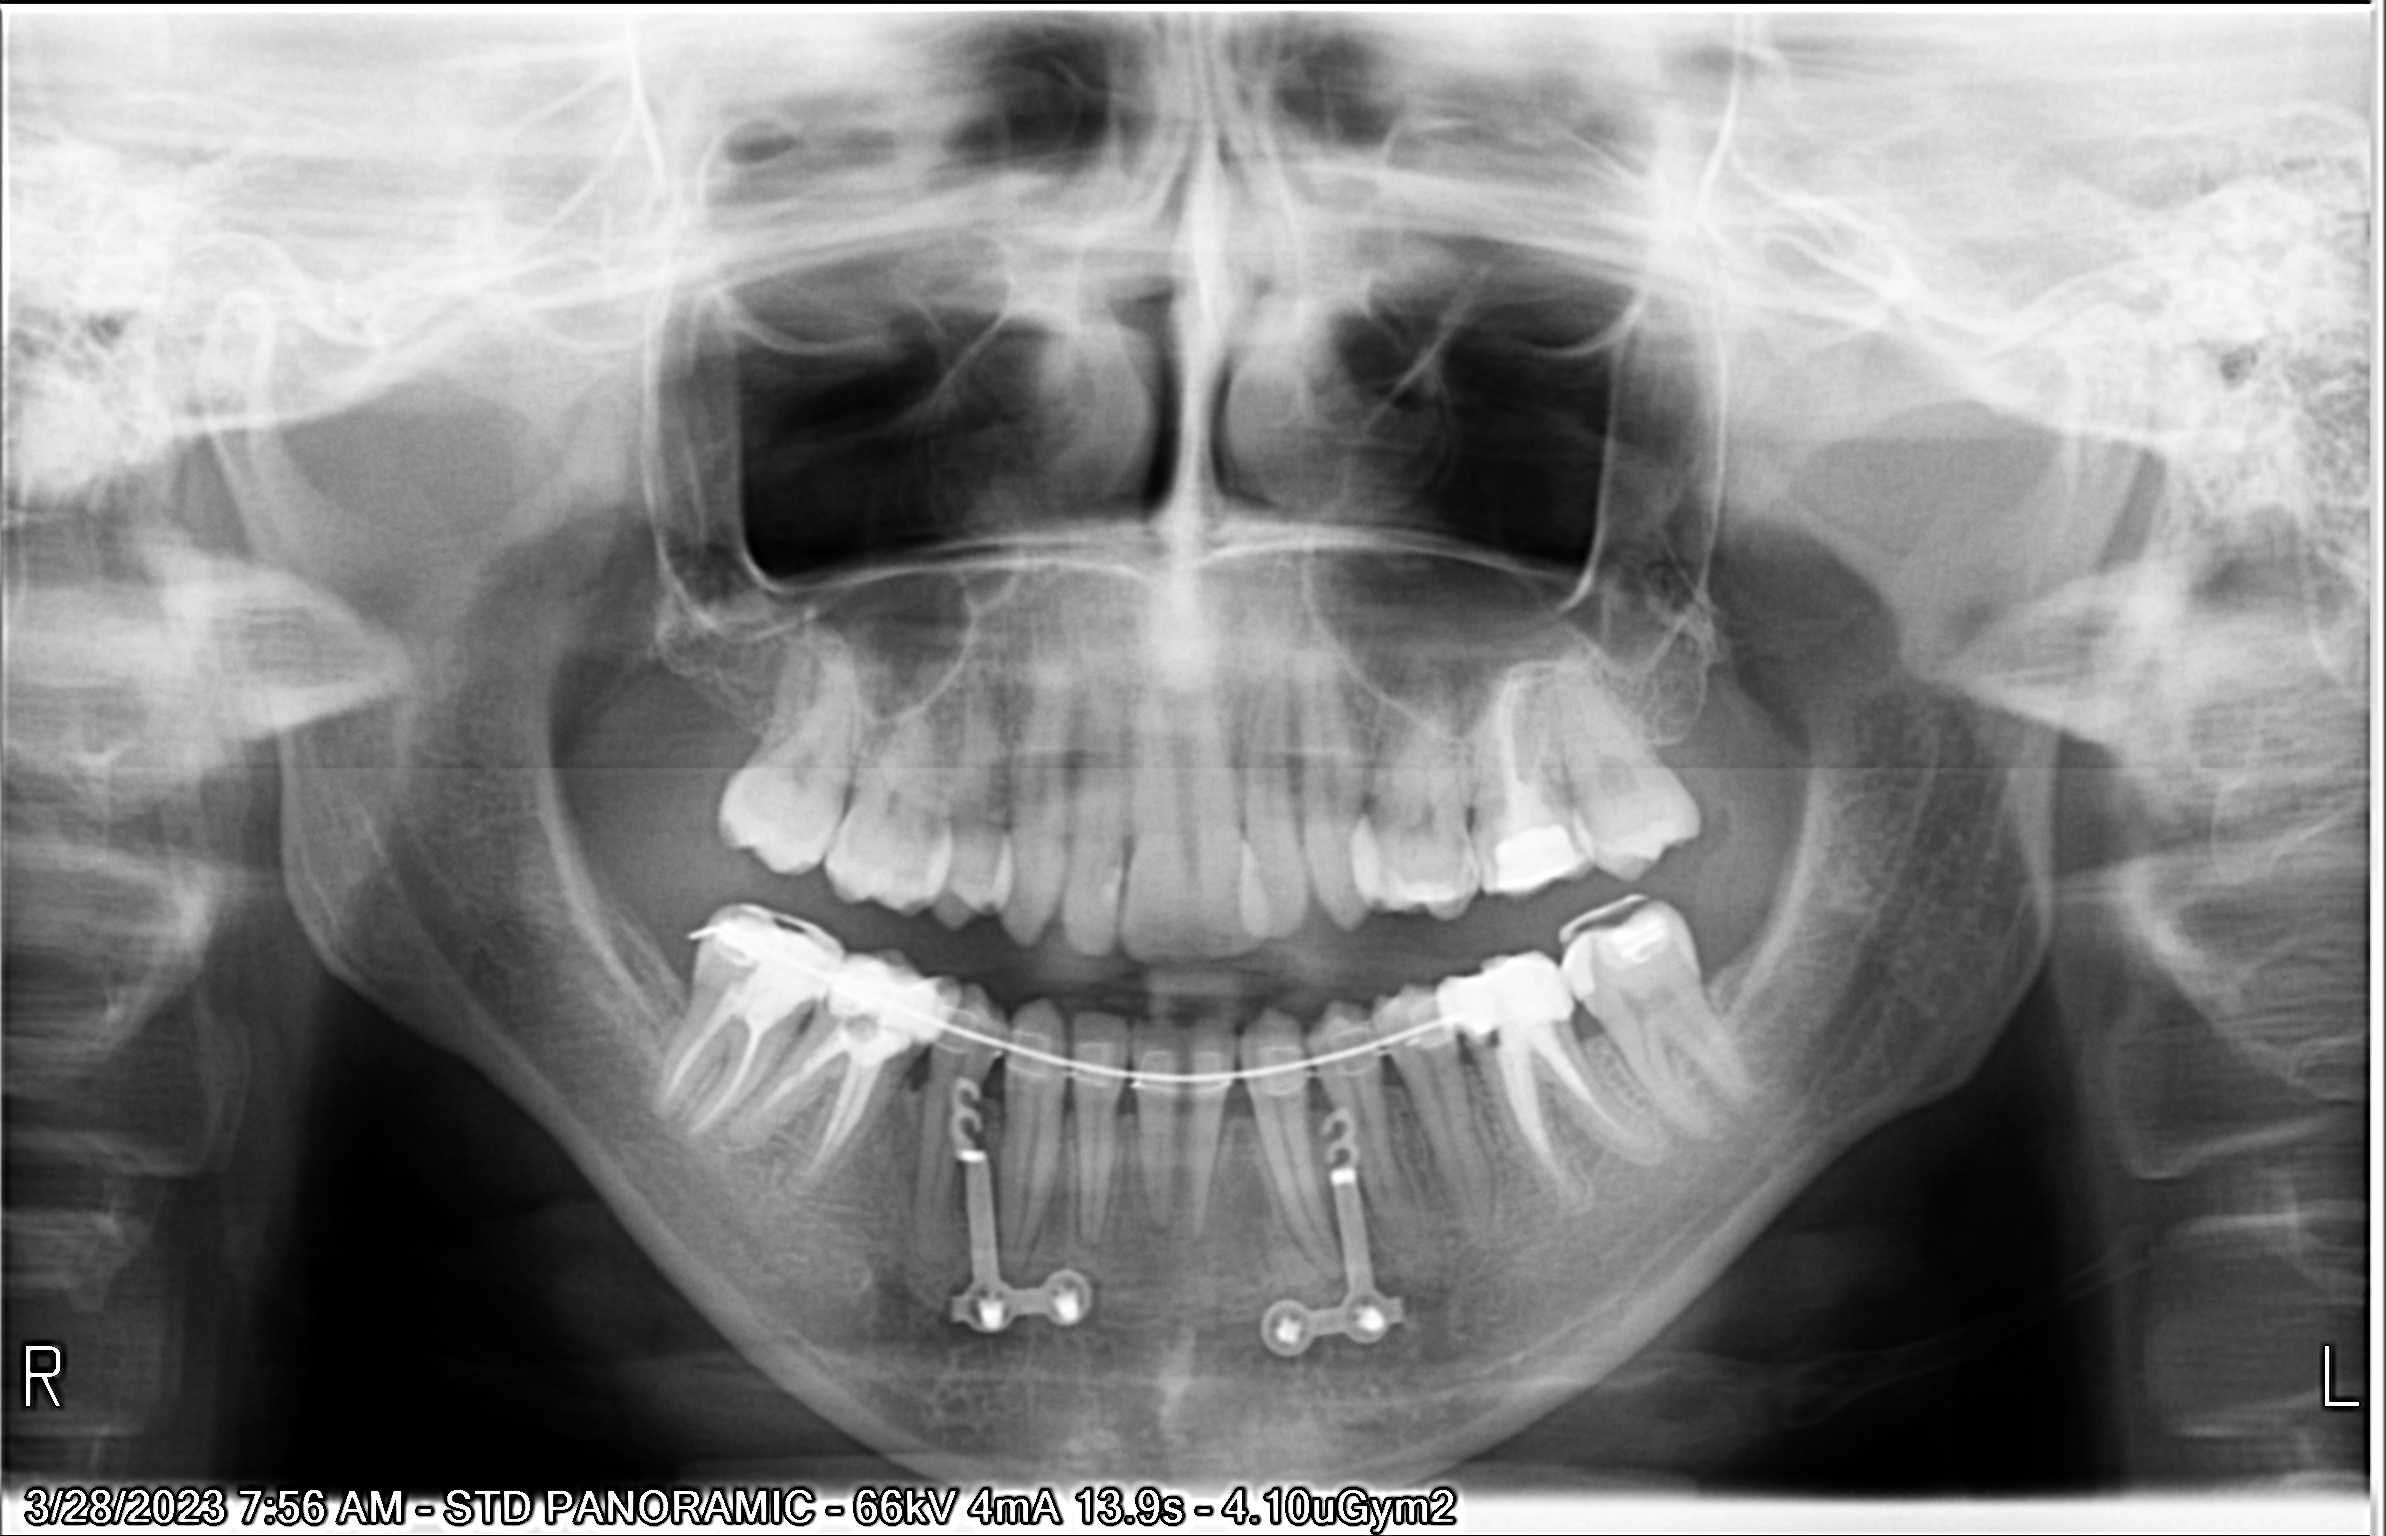END: (1501, 1044, 1657, 1185), (1464, 670, 1562, 819)
OBT: (1565, 915, 1748, 1011), (1487, 798, 1596, 917), (1369, 849, 1461, 943), (956, 825, 1036, 922), (1228, 842, 1278, 948)
ORD: (631, 912, 1810, 1139)
SRD: (934, 1089, 1123, 1336), (1266, 1106, 1435, 1376)
